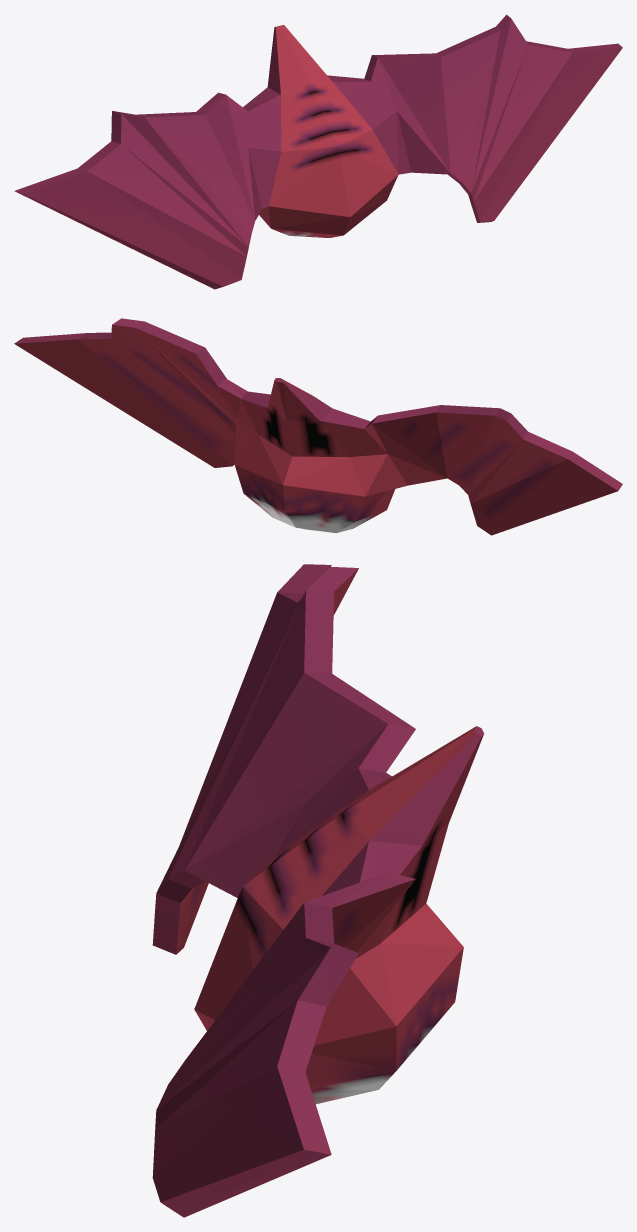
The model's file is bigOlBat_attack.obj.
3 renders of one model, top to bottom at view 1: azimuth 30°, elevation 25°; view 2: azimuth 150°, elevation 25°; view 3: azimuth 270°, elevation 25°, orthographic. The views are drawn at different scales.
Parts seen in each view (by area): view 1: Sphere; view 2: Sphere; view 3: Sphere.
Part boxes in pixels (<box>): Sphere: <box>14,14,622,289</box>; Sphere: <box>14,318,622,535</box>; Sphere: <box>152,564,484,1217</box>.
Size of the model in its own units: 9.81 by 2.74 by 2.33.
Materials: 1 (1 with a texture image).
